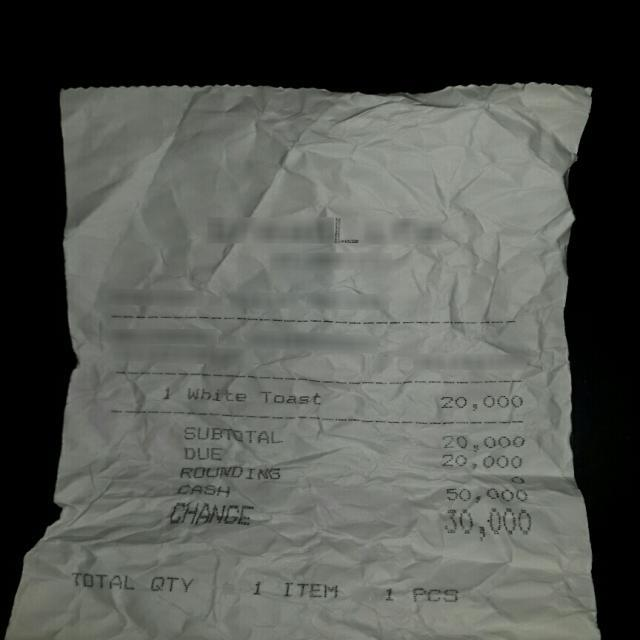kertas: (8, 83, 600, 640)
